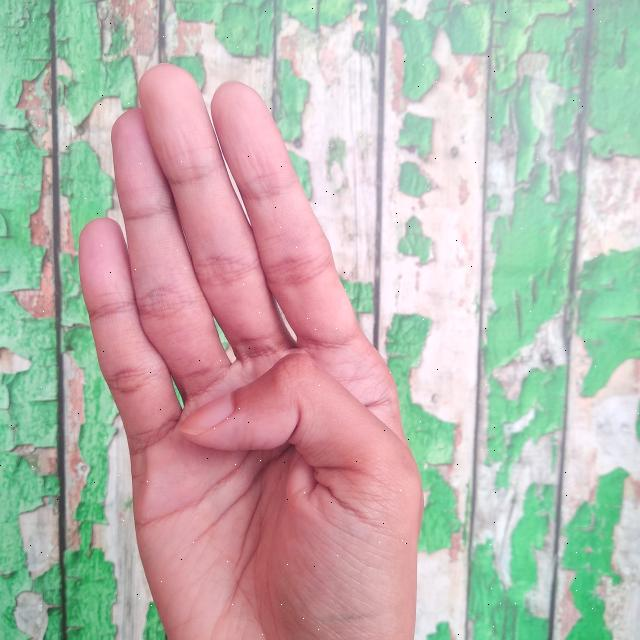B: (72, 51, 434, 640)
